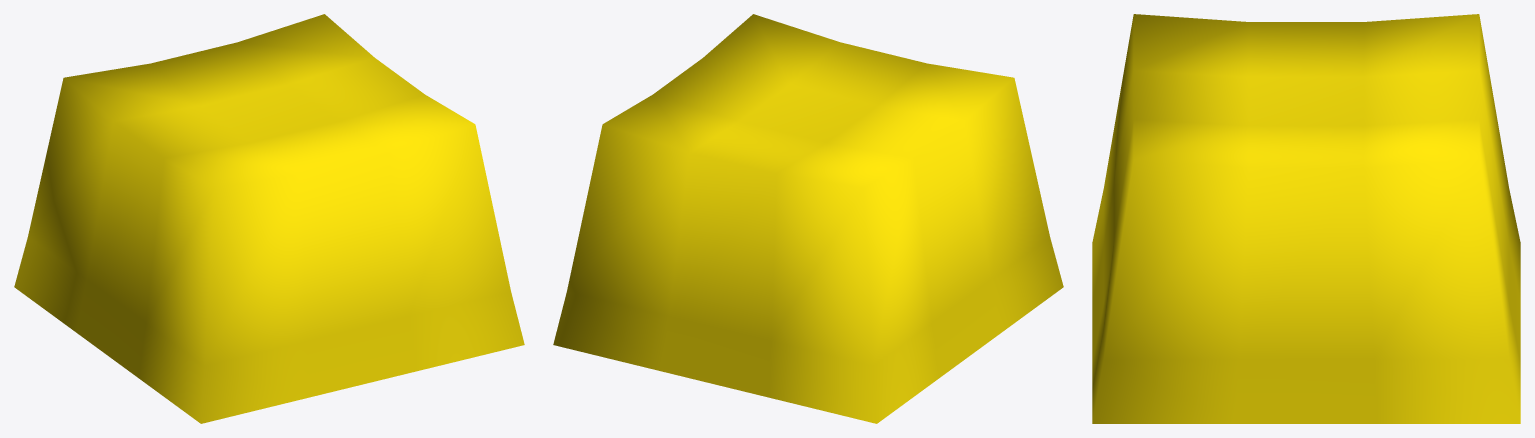
File: SM_Button3.fbx
The picture shows the model from 3 angles, left to right: view 1: azimuth 30°, elevation 25°; view 2: azimuth 150°, elevation 25°; view 3: azimuth 270°, elevation 25°; orthographic projection. The views are drawn at different scales.
Visible parts, largest first — view 1: Button3_low; view 2: Button3_low; view 3: Button3_low.
Boxes of the visible parts, box(x1,y1,x2,y2) form: Button3_low: box(14, 14, 524, 423); Button3_low: box(553, 14, 1063, 423); Button3_low: box(1092, 14, 1520, 423).
Size of the model in its own units: 0.0742 by 0.0471 by 0.0742.
